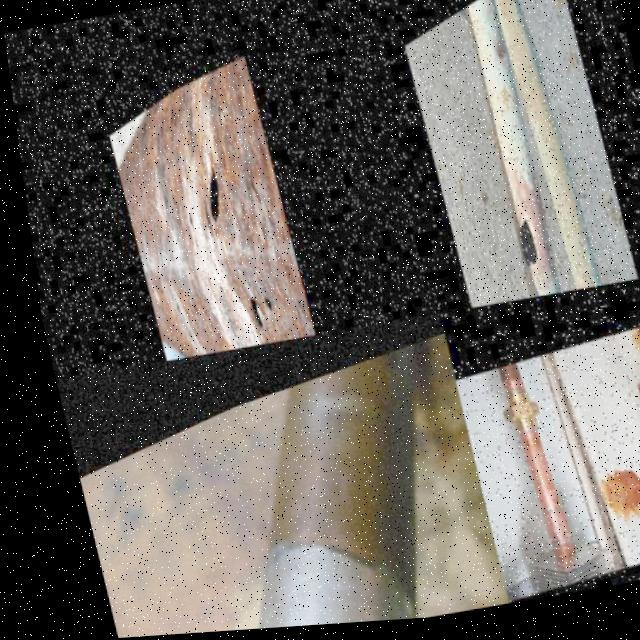hole: (186, 141, 228, 222), (501, 205, 538, 276), (226, 272, 258, 330), (248, 274, 270, 318), (157, 273, 175, 303), (174, 192, 190, 221)
rupture: (634, 395, 640, 431)
